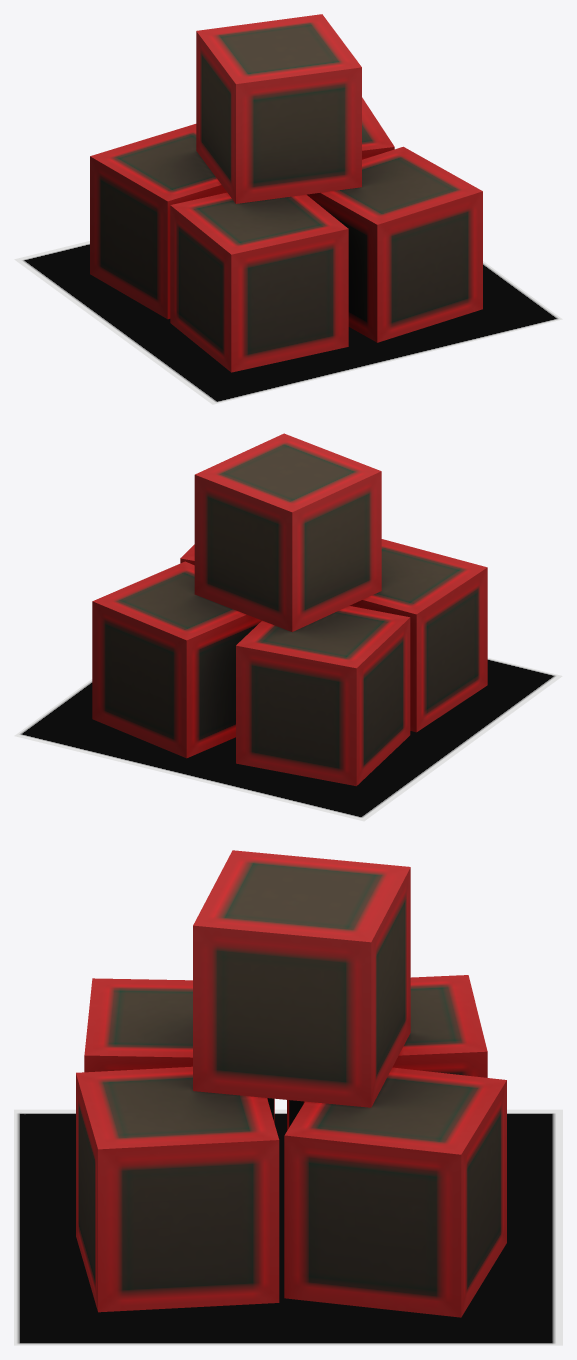
The model's file is 2x2_boxes.FBX.
The picture shows the model from 3 angles, top to bottom: view 1: azimuth 30°, elevation 25°; view 2: azimuth 150°, elevation 25°; view 3: azimuth 270°, elevation 25°; orthographic projection. The views are drawn at different scales.
Parts seen in each view (by area): view 1: 2x2_boxes, 2x2_boxes_soft_shadow; view 2: 2x2_boxes, 2x2_boxes_soft_shadow; view 3: 2x2_boxes, 2x2_boxes_soft_shadow.
Part boxes in pixels (x1=…): 2x2_boxes: x1=90, y1=14, x2=482, y2=372; 2x2_boxes_soft_shadow: x1=14, y1=241, x2=562, y2=404; 2x2_boxes: x1=92, y1=433, x2=487, y2=786; 2x2_boxes_soft_shadow: x1=14, y1=658, x2=562, y2=821; 2x2_boxes: x1=76, y1=850, x2=506, y2=1317; 2x2_boxes_soft_shadow: x1=14, y1=1109, x2=562, y2=1345.
Size of the model in its own units: 2365 by 1546 by 2325.
